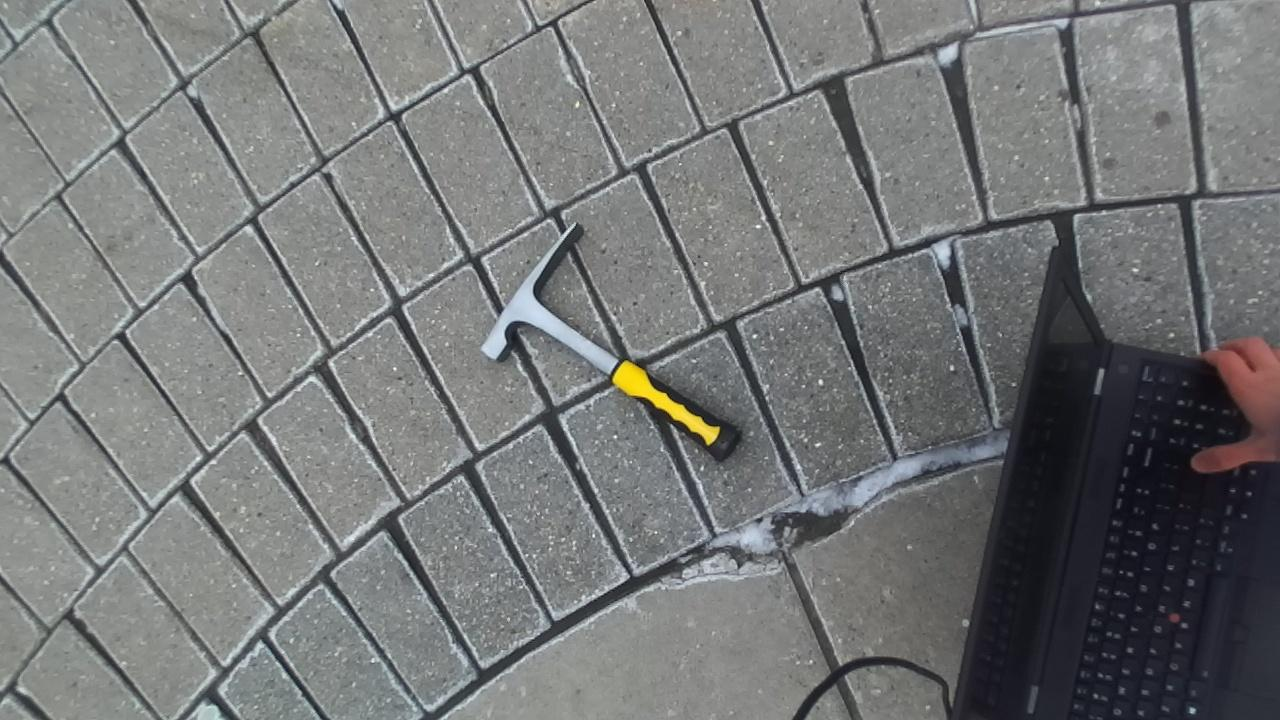pick: (481, 223, 739, 459)
